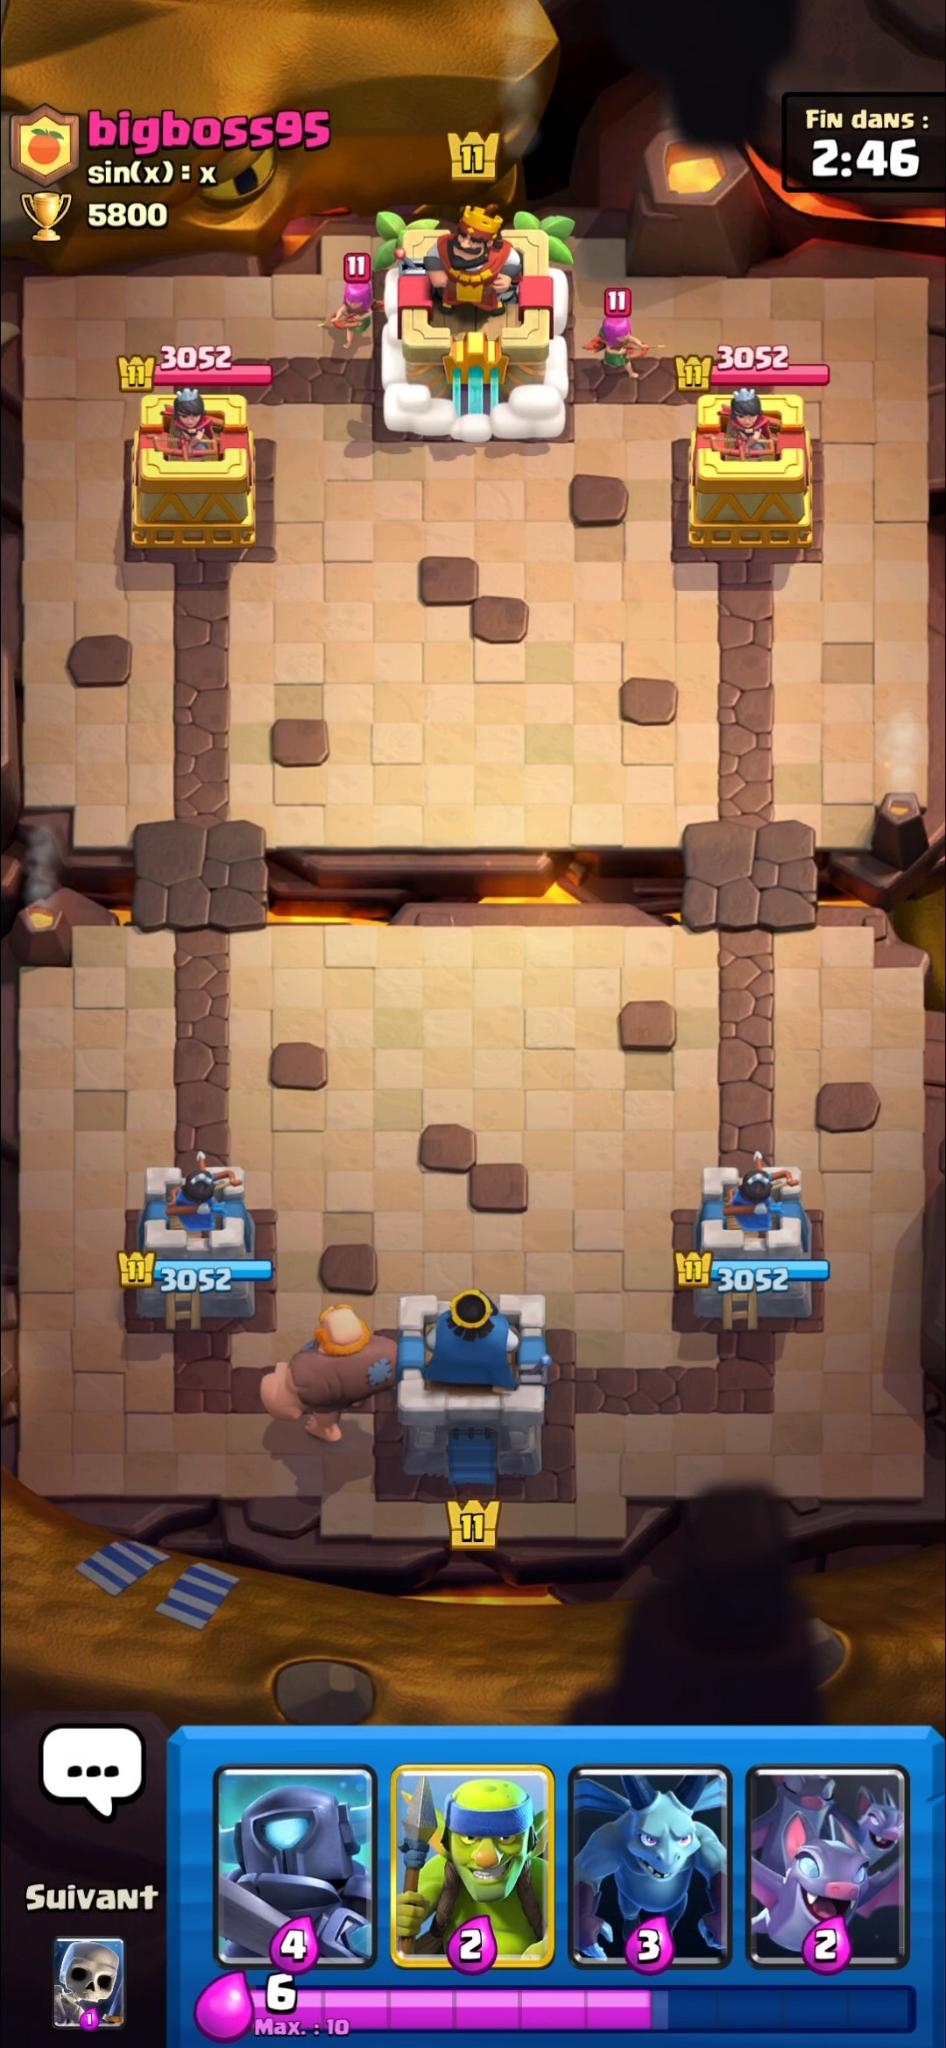archere: (585, 308, 649, 377), (329, 280, 371, 351)
geant: (260, 1302, 402, 1445)
